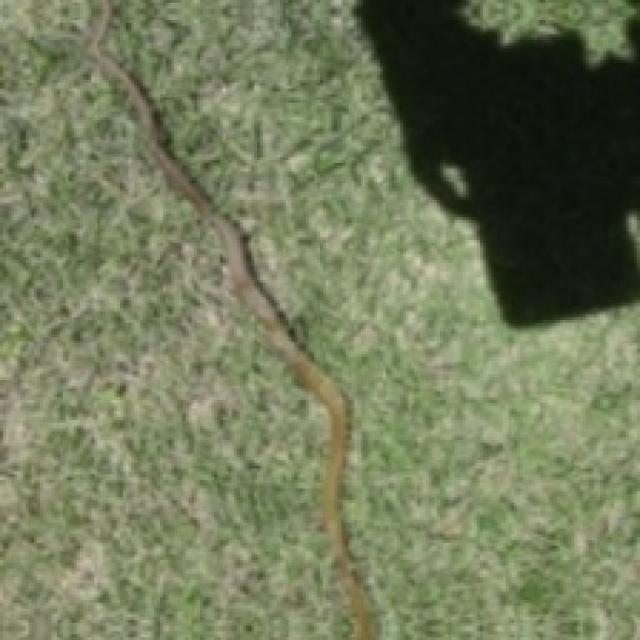reddish rat snake: (86, 0, 374, 637)
